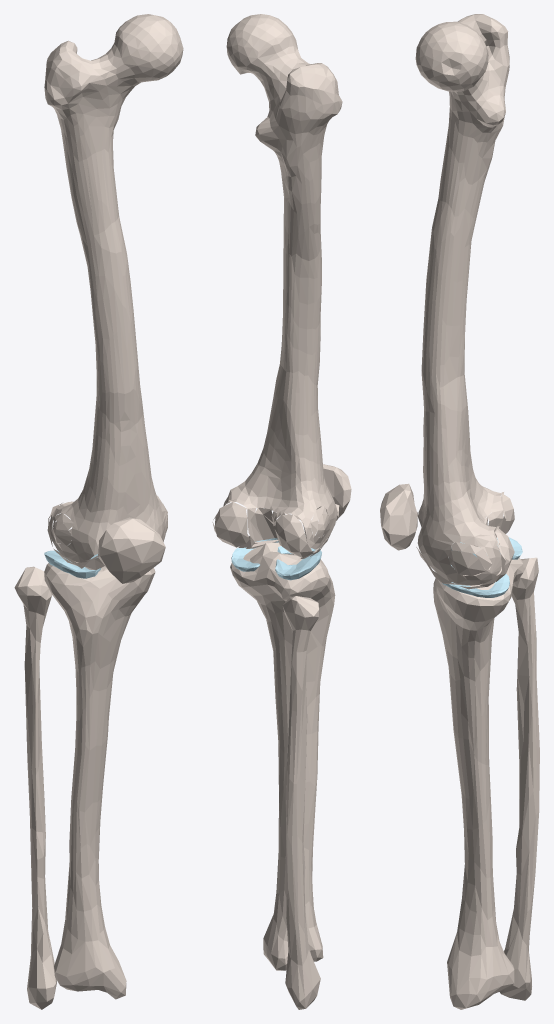
The model's file is VH_F_Knee_R_0.2.glb.
3 views of the same model, side by side, from view 1: azimuth 30°, elevation 25°; view 2: azimuth 150°, elevation 25°; view 3: azimuth 270°, elevation 25° (orthographic). The views are drawn at different scales.
Parts seen in each view (by area): view 1: VH_F_femur_R, VH_F_tibia_R, VH_F_fibula_R, VH_F_patella_R, VH_F_meniscus_R; view 2: VH_F_femur_R, VH_F_tibia_R, VH_F_fibula_R, VH_F_meniscus_R, VH_F_medial_condyle_of_right_femur_inf, VH_F_lateral_condyle_of_femur_inf_R, VH_F_patella_R, VH_F_posterior_cruciate_enthesis_R, VH_F_articular_cartilage_of_knee_R; view 3: VH_F_femur_R, VH_F_tibia_R, VH_F_fibula_R, VH_F_patella_R, VH_F_meniscus_R, VH_F_medial_perichondular_surface_R, VH_F_articular_cartilage_of_knee_R, VH_F_medial_condyle_of_right_femur_inf, VH_F_medial_epicondylar_enthesis_R.
Part boxes in pixels (x1,y1,x2,y2): VH_F_femur_R: [44, 14, 183, 562]; VH_F_tibia_R: [44, 561, 155, 999]; VH_F_fibula_R: [14, 566, 56, 1009]; VH_F_patella_R: [98, 517, 165, 583]; VH_F_meniscus_R: [44, 550, 101, 578]; VH_F_femur_R: [225, 14, 342, 549]; VH_F_tibia_R: [230, 542, 335, 970]; VH_F_fibula_R: [282, 596, 320, 1009]; VH_F_meniscus_R: [231, 538, 321, 580]; VH_F_medial_condyle_of_right_femur_inf: [215, 502, 249, 547]; VH_F_lateral_condyle_of_femur_inf_R: [274, 514, 311, 557]; VH_F_patella_R: [316, 464, 351, 520]; VH_F_posterior_cruciate_enthesis_R: [255, 507, 276, 539]; VH_F_articular_cartilage_of_knee_R: [212, 500, 339, 558]; VH_F_femur_R: [415, 14, 509, 584]; VH_F_tibia_R: [433, 552, 523, 1009]; VH_F_fibula_R: [499, 557, 539, 1000]; VH_F_patella_R: [380, 483, 417, 550]; VH_F_meniscus_R: [442, 537, 522, 597]; VH_F_medial_perichondular_surface_R: [448, 550, 485, 576]; VH_F_articular_cartilage_of_knee_R: [416, 492, 506, 586]; VH_F_medial_condyle_of_right_femur_inf: [495, 528, 514, 581]; VH_F_medial_epicondylar_enthesis_R: [451, 542, 491, 569].
Size of the model in its own units: 0.1018 by 0.7724 by 0.1106.
